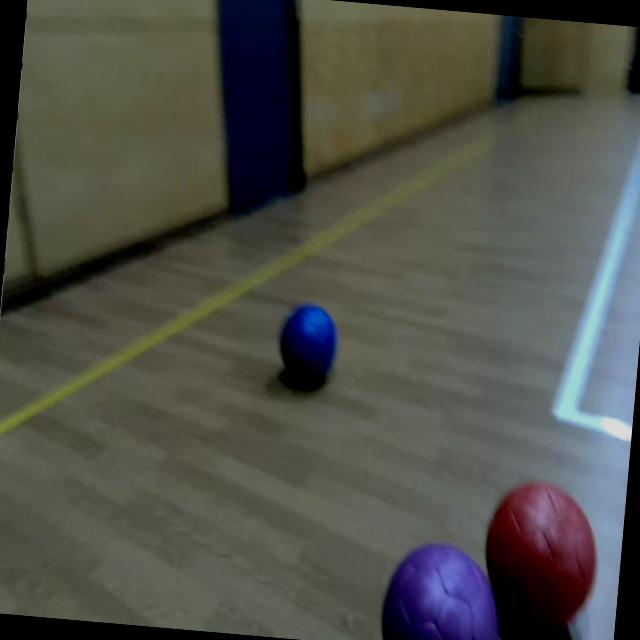blue_ball: (278, 302, 340, 382)
purple_ball: (378, 537, 508, 640)
red_ball: (478, 475, 604, 627)
